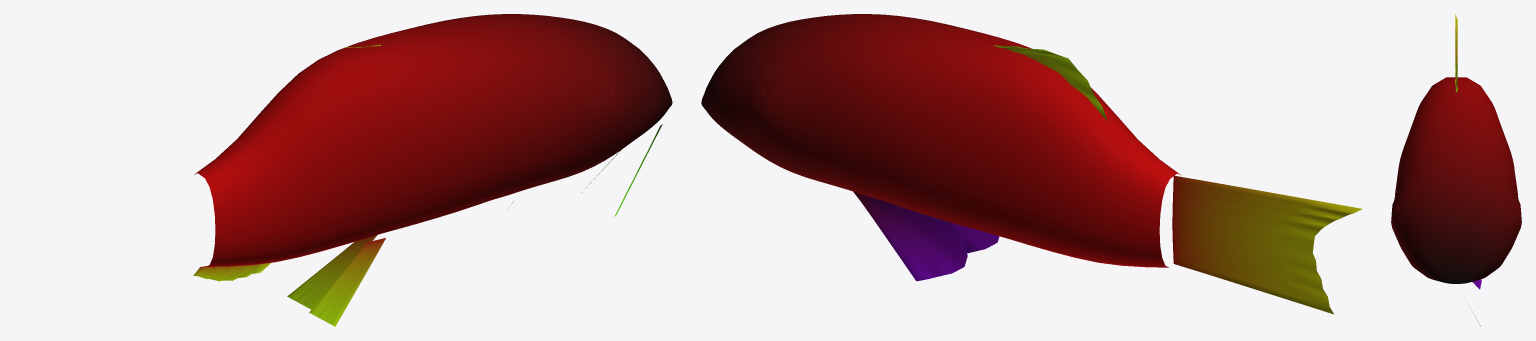
Rendered from corydoras.glb.
3 views of the same model, side by side, from view 1: azimuth 30°, elevation 25°; view 2: azimuth 150°, elevation 25°; view 3: azimuth 270°, elevation 25° (orthographic). The views are drawn at different scales.
Parts seen in each view (by area): view 1: body; view 2: body; view 3: body.
Part boxes in pixels (x1,y1,x2,y2): body: (193,14,672,326); body: (701,14,1361,314); body: (1391,14,1521,326).
Size of the model in its own units: 0.0744 by 0.0291 by 0.0175.
